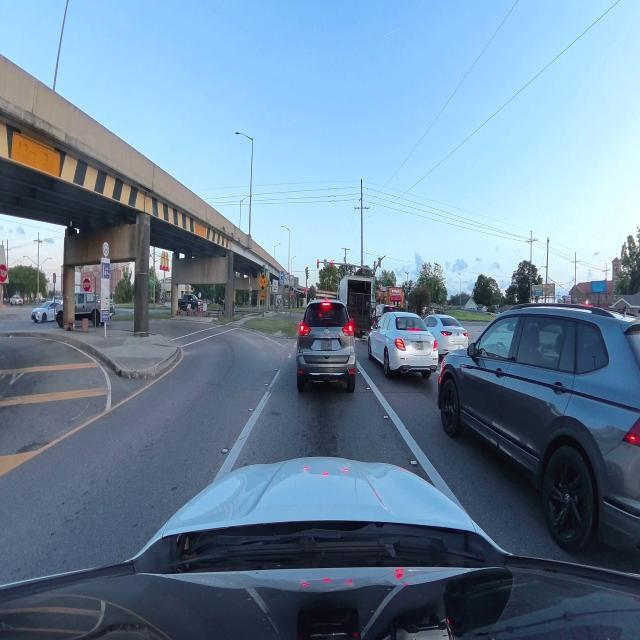car: (438, 304, 639, 550), (297, 300, 356, 392), (368, 312, 438, 377), (424, 315, 468, 356), (31, 301, 61, 322)
